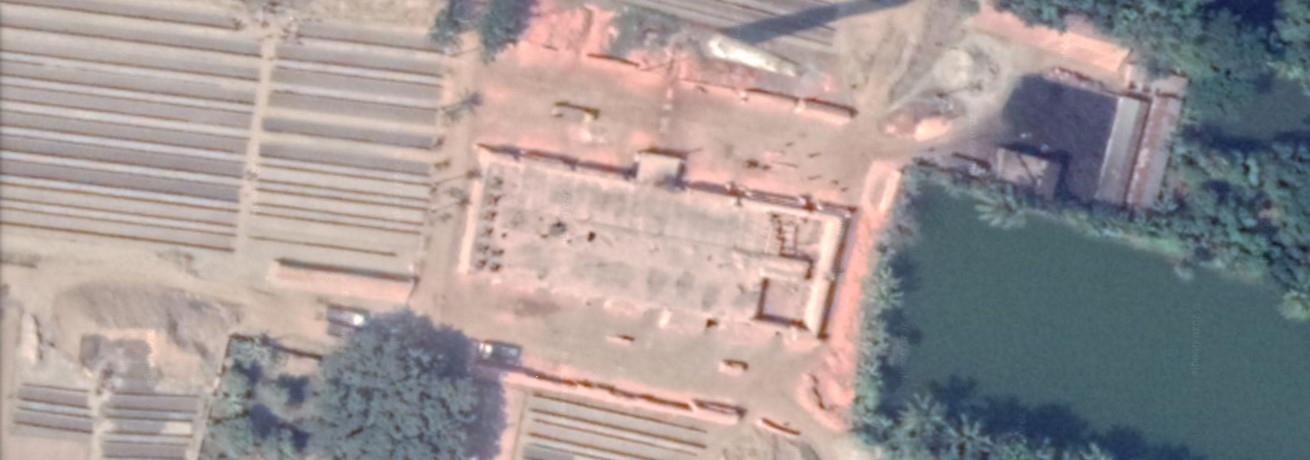kiln: (574, 6, 859, 340)
